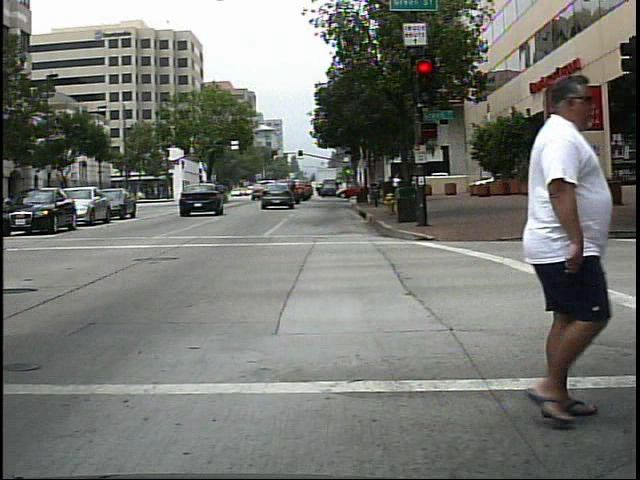person: (487, 70, 616, 429)
